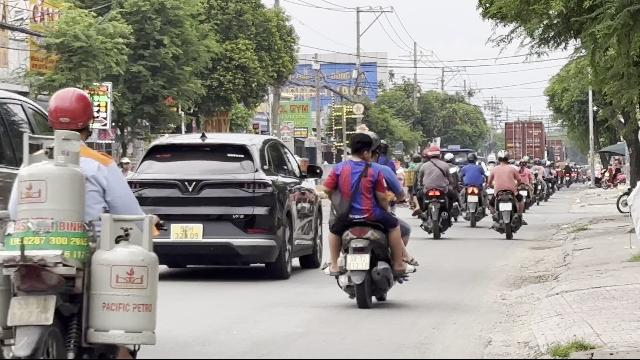helmet: (44, 87, 96, 141)
licenseplate: (8, 295, 56, 325), (346, 254, 369, 270)
motorcyclist: (1, 84, 175, 356), (319, 126, 417, 308)
nohelmet: (347, 132, 375, 162)
